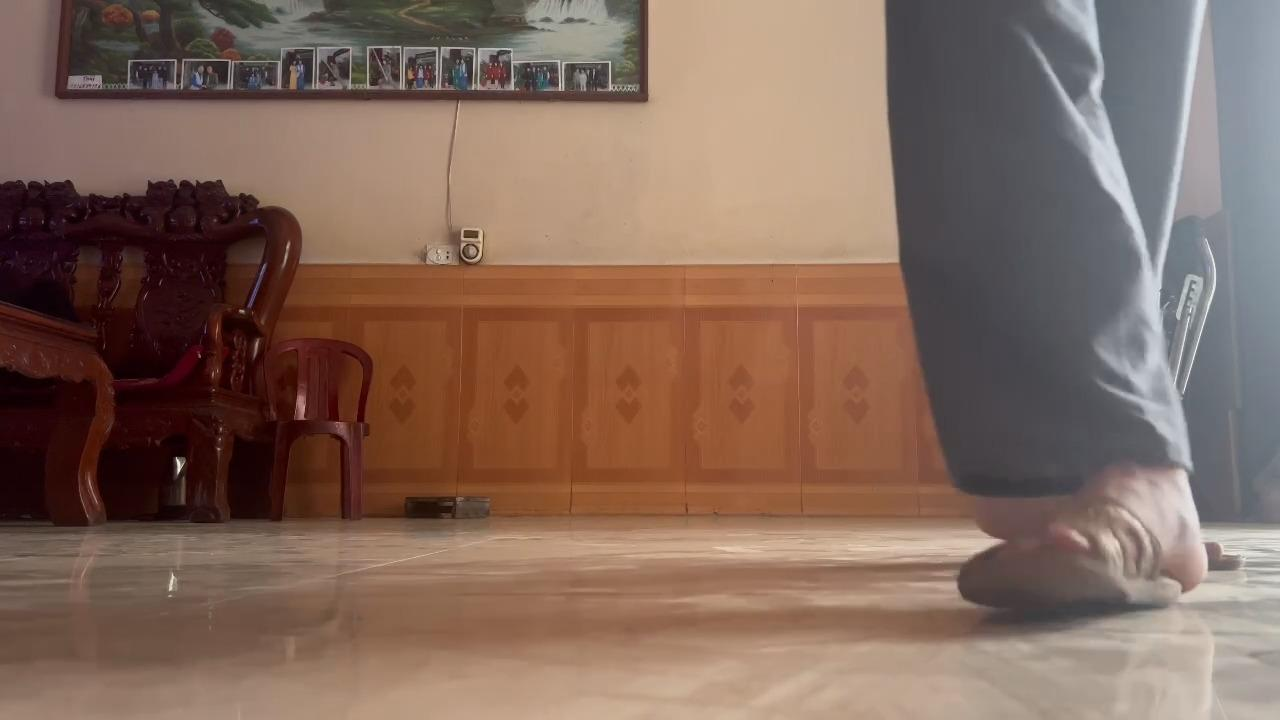no-boot: (945, 469, 1215, 623)
